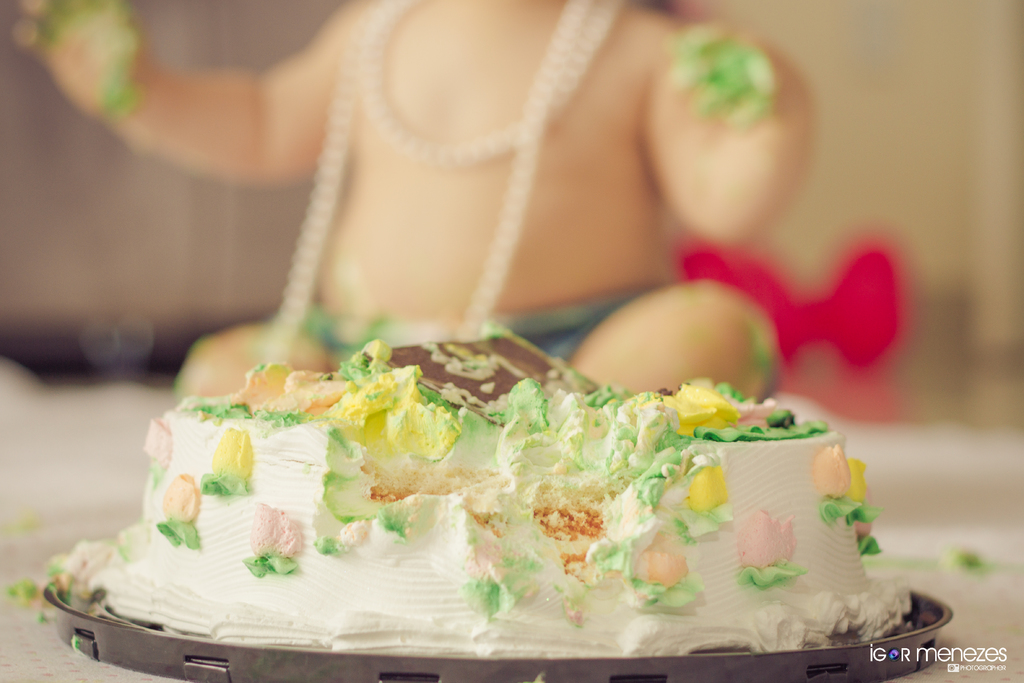cake: (52, 320, 913, 657)
